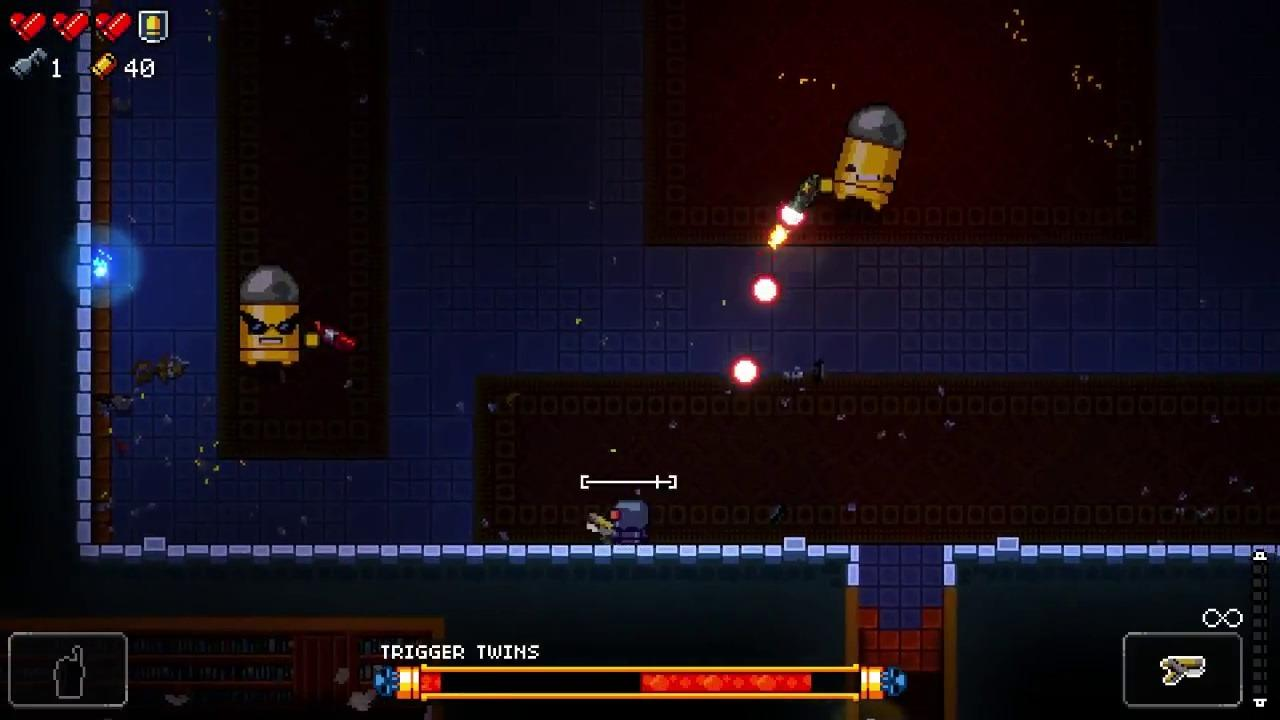boss_shades: (239, 267, 299, 368)
boss_smiley: (831, 104, 907, 211)
bullet: (751, 274, 781, 308), (730, 358, 760, 387), (778, 202, 807, 229)
player: (608, 500, 650, 545)
